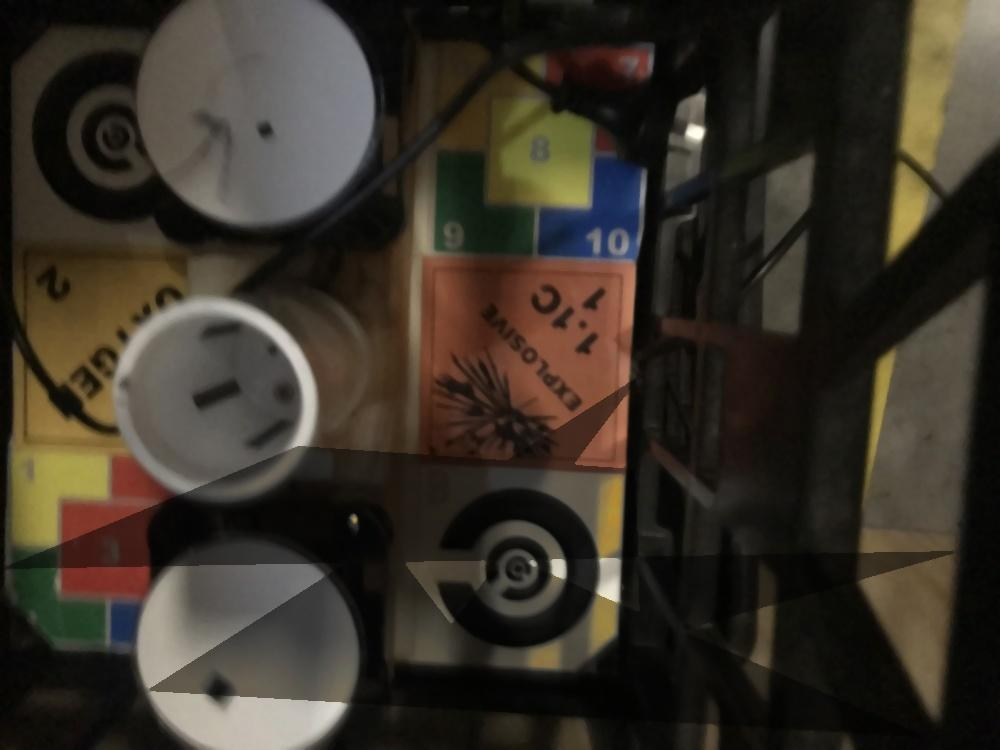explosive: (421, 258, 636, 478)
oxidizer: (15, 246, 194, 459)
